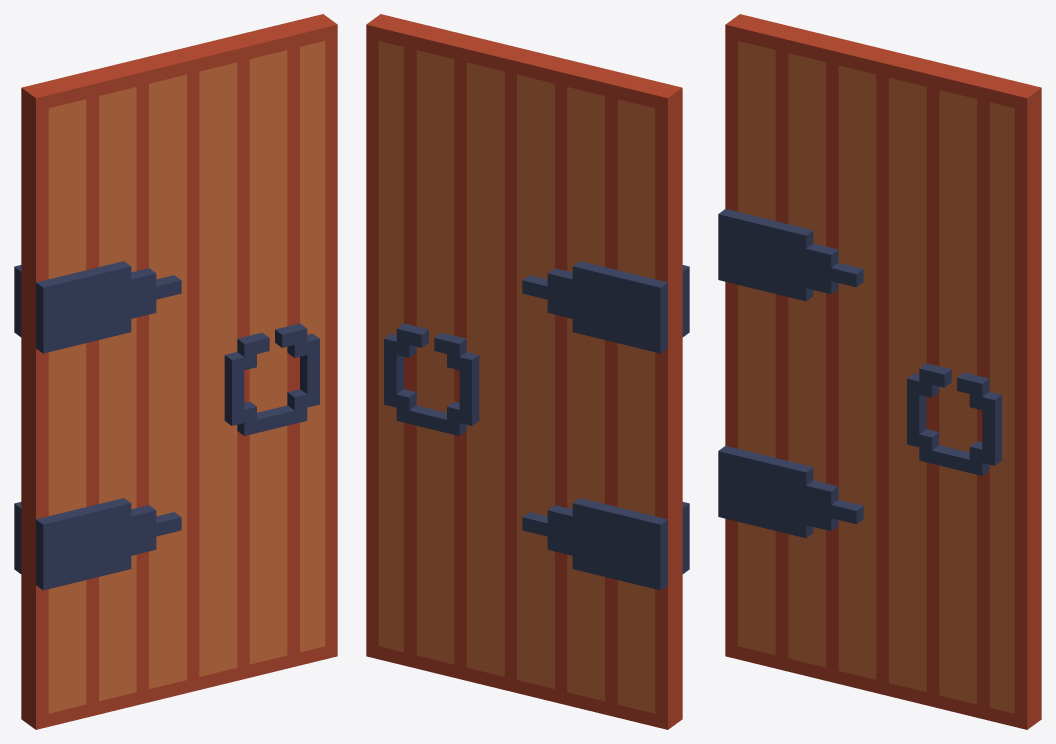
File: door_24_16_48.obj
3 views of the same model, side by side, from view 1: azimuth 30°, elevation 25°; view 2: azimuth 150°, elevation 25°; view 3: azimuth 330°, elevation 25° (orthographic).
Bounding box in the file's own units: 2.4 × 4.8 × 0.4.
Materials: 1 (1 with a texture image).
